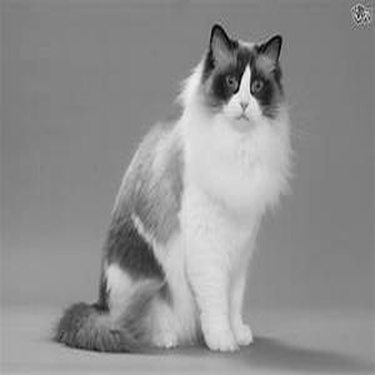cat: (52, 20, 294, 354)
